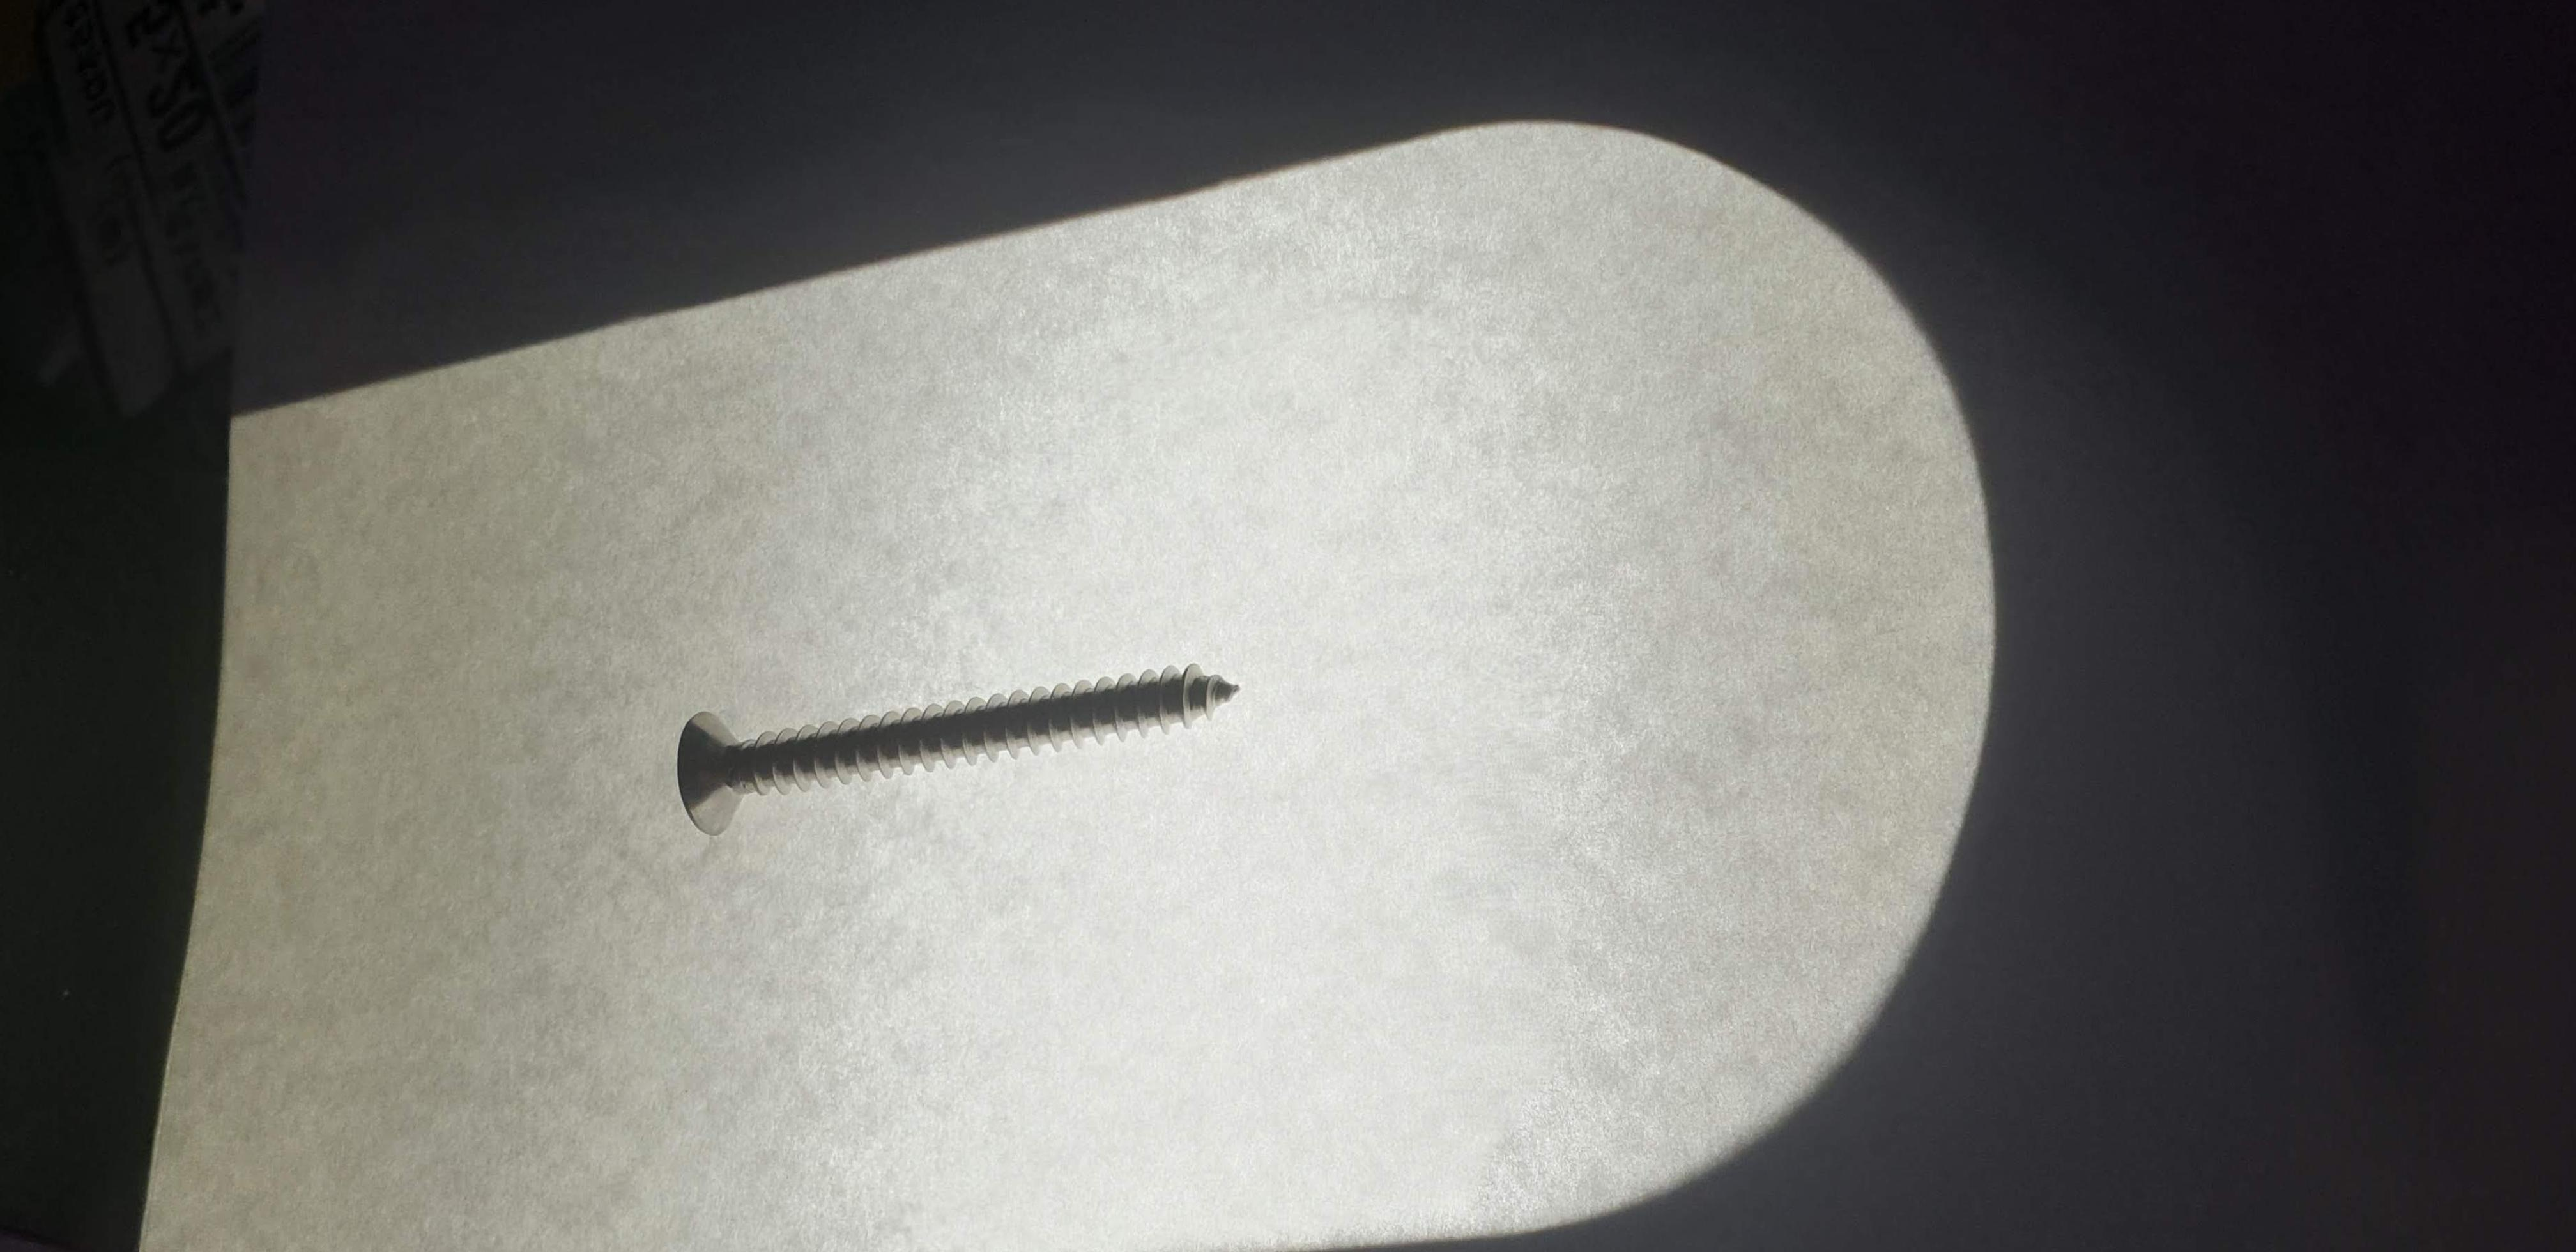S001: (634, 631, 1281, 861)
